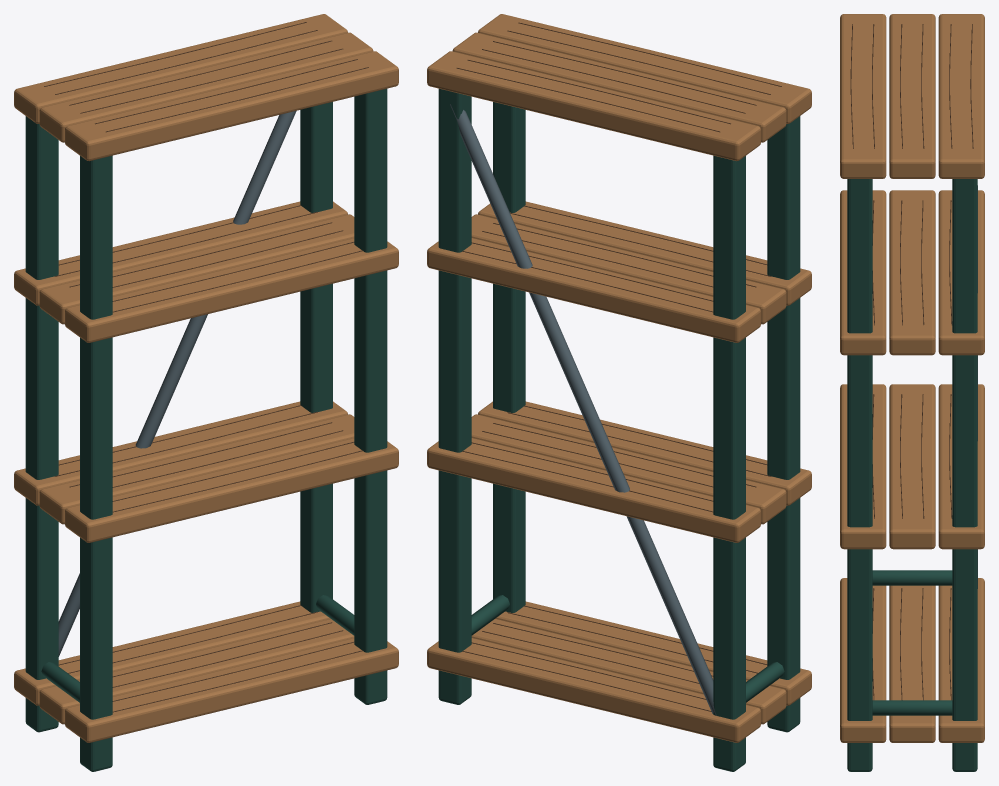
Rendered from shed_shelf.glb.
3 renders of one model, left to right at view 1: azimuth 30°, elevation 25°; view 2: azimuth 150°, elevation 25°; view 3: azimuth 270°, elevation 25°, orthographic. The views are drawn at different scales.
Parts seen in each view (by area): view 1: Leg.003, Leg.001, Leg, Bevelled_timber.011, Bevelled_timber.002, Bevelled_timber.005, Bevelled_timber.008, Leg.002, Bevelled_timber.010, Bevelled_timber.009, Bevelled_timber.007, Bevelled_timber.004 (+7 smaller); view 2: Leg.002, Leg, Leg.001, Bevelled_timber.009, Bevelled_timber, Bevelled_timber.003, Bevelled_timber.006, Leg.003, Rear_cross, Bevelled_timber.011, Bevelled_timber.010, Bevelled_timber.004 (+7 smaller); view 3: Leg.002, Leg.003, Bevelled_timber.007, Bevelled_timber.004, Bevelled_timber.009, Bevelled_timber.010, Bevelled_timber.011, Bevelled_timber.001, Bevelled_timber.005, Bevelled_timber.008, Bevelled_timber.003, Bevelled_timber.006 (+4 smaller).
Part boxes in pixels (bbox=[...]): Leg.003: bbox=[354, 88, 387, 704]; Leg.001: bbox=[80, 155, 112, 771]; Leg: bbox=[25, 116, 58, 732]; Bevelled_timber.011: bbox=[65, 51, 398, 161]; Bevelled_timber.002: bbox=[65, 638, 398, 742]; Bevelled_timber.005: bbox=[65, 438, 398, 542]; Bevelled_timber.008: bbox=[65, 238, 398, 342]; Leg.002: bbox=[300, 102, 332, 612]; Bevelled_timber.010: bbox=[39, 32, 373, 142]; Bevelled_timber.009: bbox=[14, 14, 347, 123]; Bevelled_timber.007: bbox=[39, 214, 354, 324]; Bevelled_timber.004: bbox=[39, 414, 354, 524]; Leg.002: bbox=[438, 88, 471, 704]; Leg: bbox=[713, 155, 745, 771]; Leg.001: bbox=[767, 116, 800, 732]; Bevelled_timber.009: bbox=[427, 51, 760, 161]; Bevelled_timber: bbox=[427, 638, 760, 742]; Bevelled_timber.003: bbox=[427, 438, 760, 542]; Bevelled_timber.006: bbox=[427, 238, 760, 342]; Leg.003: bbox=[493, 102, 525, 612]; Rear_cross: bbox=[450, 104, 716, 715]; Bevelled_timber.011: bbox=[478, 14, 811, 123]; Bevelled_timber.010: bbox=[452, 32, 786, 142]; Bevelled_timber.004: bbox=[471, 414, 786, 524]; Leg.002: bbox=[952, 179, 977, 771]; Leg.003: bbox=[847, 179, 872, 771]; Bevelled_timber.007: bbox=[889, 190, 935, 355]; Bevelled_timber.004: bbox=[889, 384, 935, 549]; Bevelled_timber.009: bbox=[938, 14, 984, 178]; Bevelled_timber.010: bbox=[889, 14, 935, 178]; Bevelled_timber.011: bbox=[840, 14, 886, 178]; Bevelled_timber.001: bbox=[889, 585, 935, 742]; Bevelled_timber.005: bbox=[840, 384, 886, 549]; Bevelled_timber.008: bbox=[840, 190, 886, 355]; Bevelled_timber.003: bbox=[938, 384, 984, 549]; Bevelled_timber.006: bbox=[938, 190, 984, 355].
Bounding box in the file's own units: 0.9 × 1.75 × 0.372.
